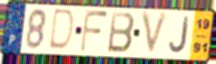8: (24, 8, 48, 51)
B: (106, 10, 137, 55)
D: (46, 8, 76, 53)
F: (79, 9, 110, 55)
J: (168, 16, 191, 55)
V: (140, 11, 170, 58)
